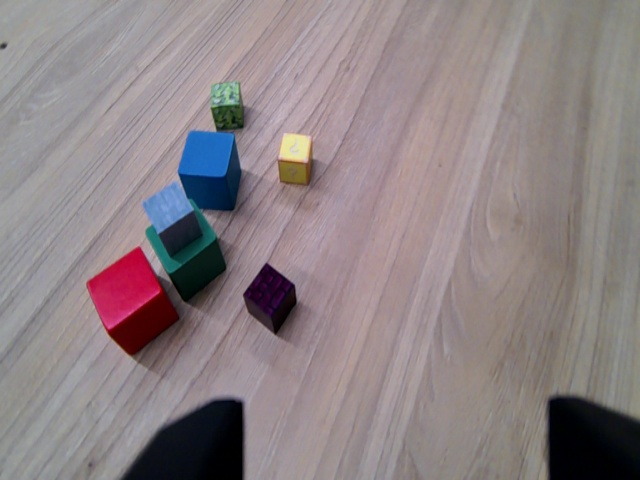brick: (250, 263, 298, 328)
grass: (207, 83, 245, 128)
lucky: (279, 130, 313, 186)
stone: (138, 181, 202, 248)
